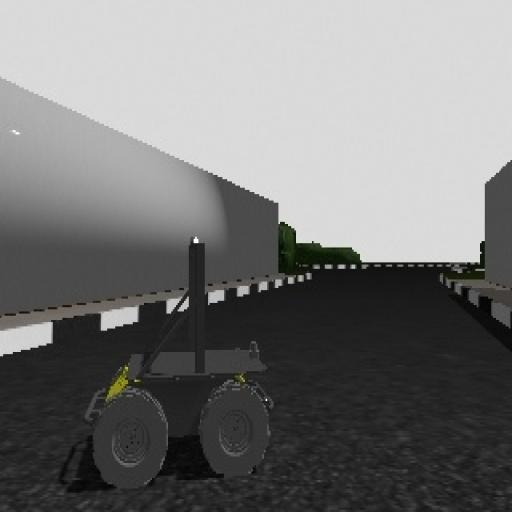huskya200: (83, 230, 284, 493)
